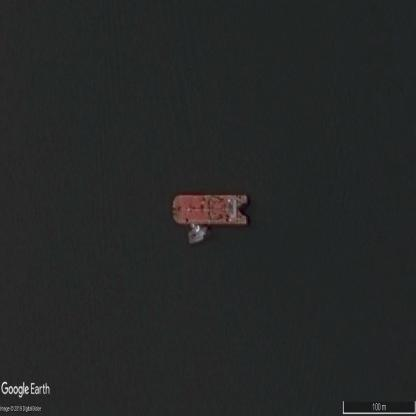ship: (173, 194, 247, 225), (186, 224, 212, 244)
